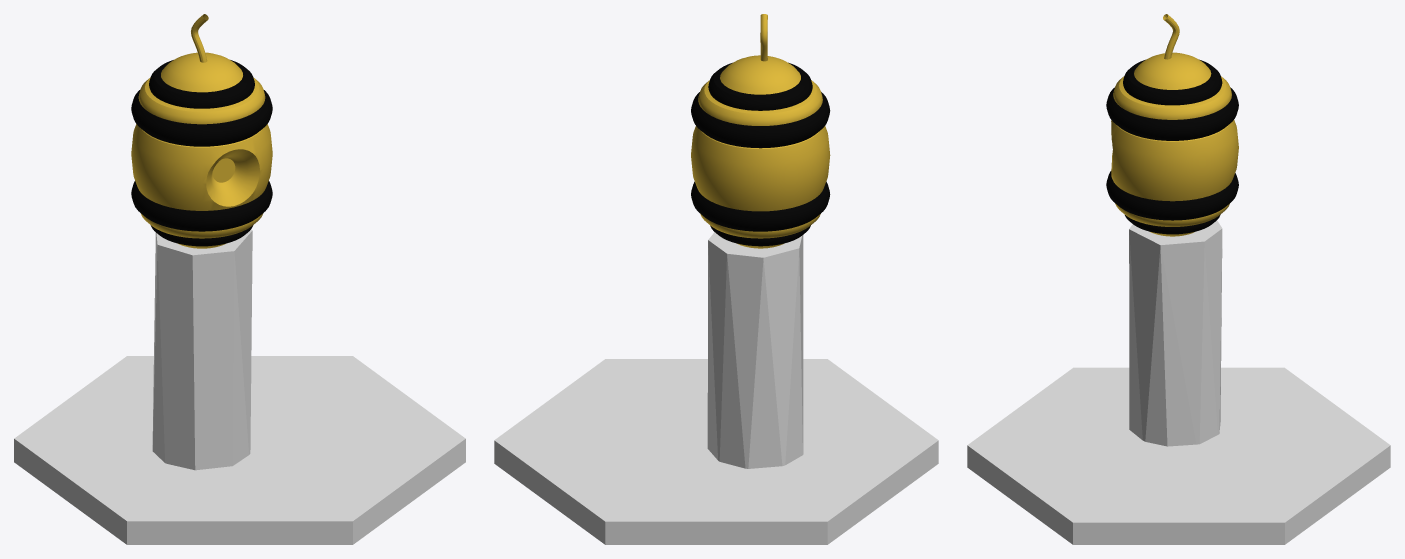
The model's file is wax.fbx.
3 views of the same model, side by side, from view 1: azimuth 30°, elevation 25°; view 2: azimuth 150°, elevation 25°; view 3: azimuth 270°, elevation 25° (orthographic). The views are drawn at different scales.
Visible parts, largest first — view 1: Cube.006; view 2: Cube.006; view 3: Cube.006.
Boxes of the visible parts, x1,y1,x2,y2 form: Cube.006: (14, 14, 465, 544); Cube.006: (494, 14, 938, 544); Cube.006: (967, 14, 1390, 544).
Bounding box in the file's own units: 173 × 226 × 200.
